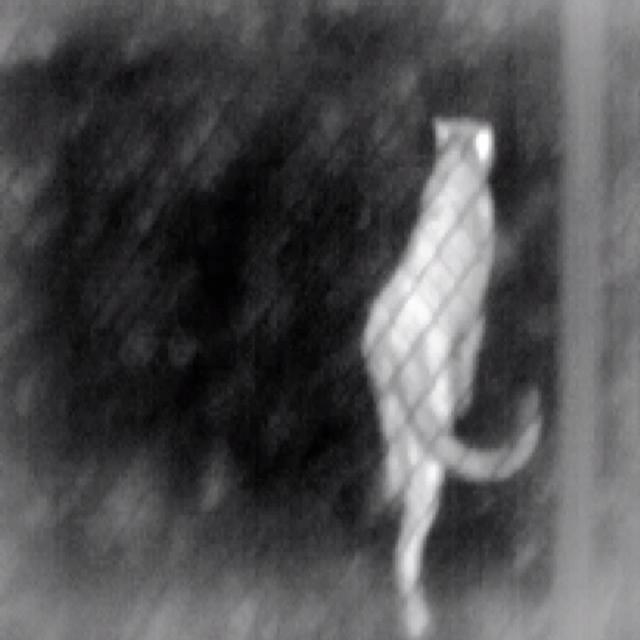cheetah: (360, 117, 545, 639)
